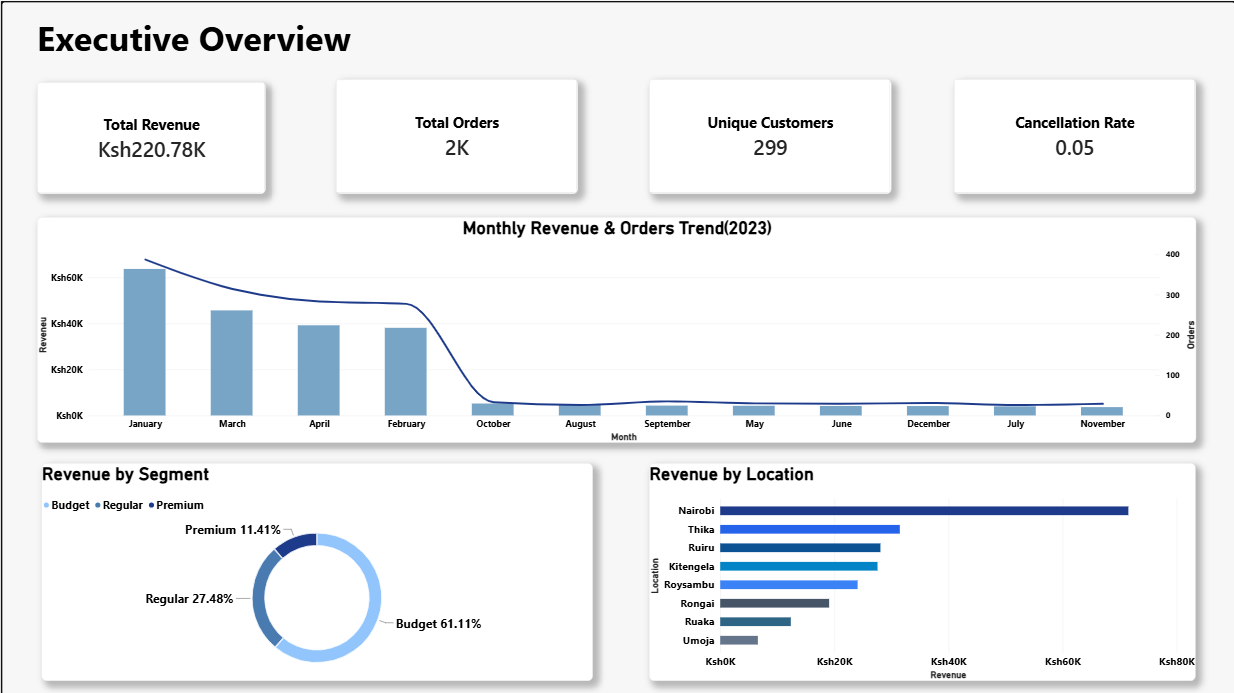

This screenshot's page, from the dashboard's own definition file:
{"tool":"powerbi","page":{"name":"Executive Overview","canvas":[1920,1080],"ordinal":0},"visuals":[{"type":"cardVisual","fields":{"Data":["dim_customers.1. Total Revenue"]},"box":[54.9,126.5,355.5,174.2],"z":0},{"type":"cardVisual","fields":{"Data":["dim_customers.Cancellation Rate"]},"box":[1479.3,121.7,377,178.9],"z":1000},{"type":"cardVisual","fields":{"Data":["dim_customers.Unique Customers"]},"box":[1006.9,121.7,377,178.9],"z":2000},{"type":"cardVisual","fields":{"Data":["dim_customers.Total Orders"]},"box":[520.1,121.7,377,178.9],"z":3000},{"type":"lineClusteredColumnComboChart","title":"Monthly Revenue & Orders Trend(2023)","fields":{"Category":["dim_date.MonthName"],"Y":["dim_customers.1. Total Revenue"],"Y2":["dim_customers.Total Orders"]},"box":[54.9,336.4,1801.4,350.7],"z":4000},{"type":"donutChart","title":"Revenue by Segment","fields":{"Category":["dim_customers.CustomerType"],"Y":["dim_customers.1. Total Revenue"]},"box":[62,718.2,856.5,338.8],"z":5000},{"type":"clusteredBarChart","title":"Revenue by Location","fields":{"Category":["dim_customers.Location"],"Y":["dim_customers.1. Total Revenue"]},"box":[1006.9,718.2,849.4,338.8],"z":6000},{"type":"textbox","box":[54.9,21.5,553.5,74],"z":7000}]}

Visuals, with their boxes in screenshot pixels (x1, y1, x2, y2), scaled from the page's 1920x1080 canvas onto the 1234x693 screenshot:
cardVisual - dim_customers.1. Total Revenue: (left=35, top=81, right=264, bottom=193)
cardVisual - dim_customers.Cancellation Rate: (left=951, top=78, right=1193, bottom=193)
cardVisual - dim_customers.Unique Customers: (left=647, top=78, right=889, bottom=193)
cardVisual - dim_customers.Total Orders: (left=334, top=78, right=577, bottom=193)
"Monthly Revenue & Orders Trend(2023)" lineClusteredColumnComboChart: (left=35, top=216, right=1193, bottom=441)
"Revenue by Segment" donutChart: (left=40, top=461, right=590, bottom=678)
"Revenue by Location" clusteredBarChart: (left=647, top=461, right=1193, bottom=678)
textbox: (left=35, top=14, right=391, bottom=61)
